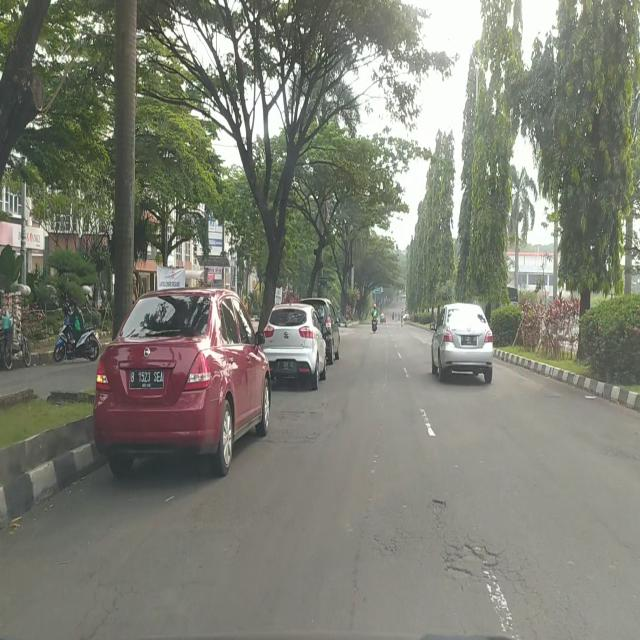Drain Hole: (428, 499, 518, 592)
